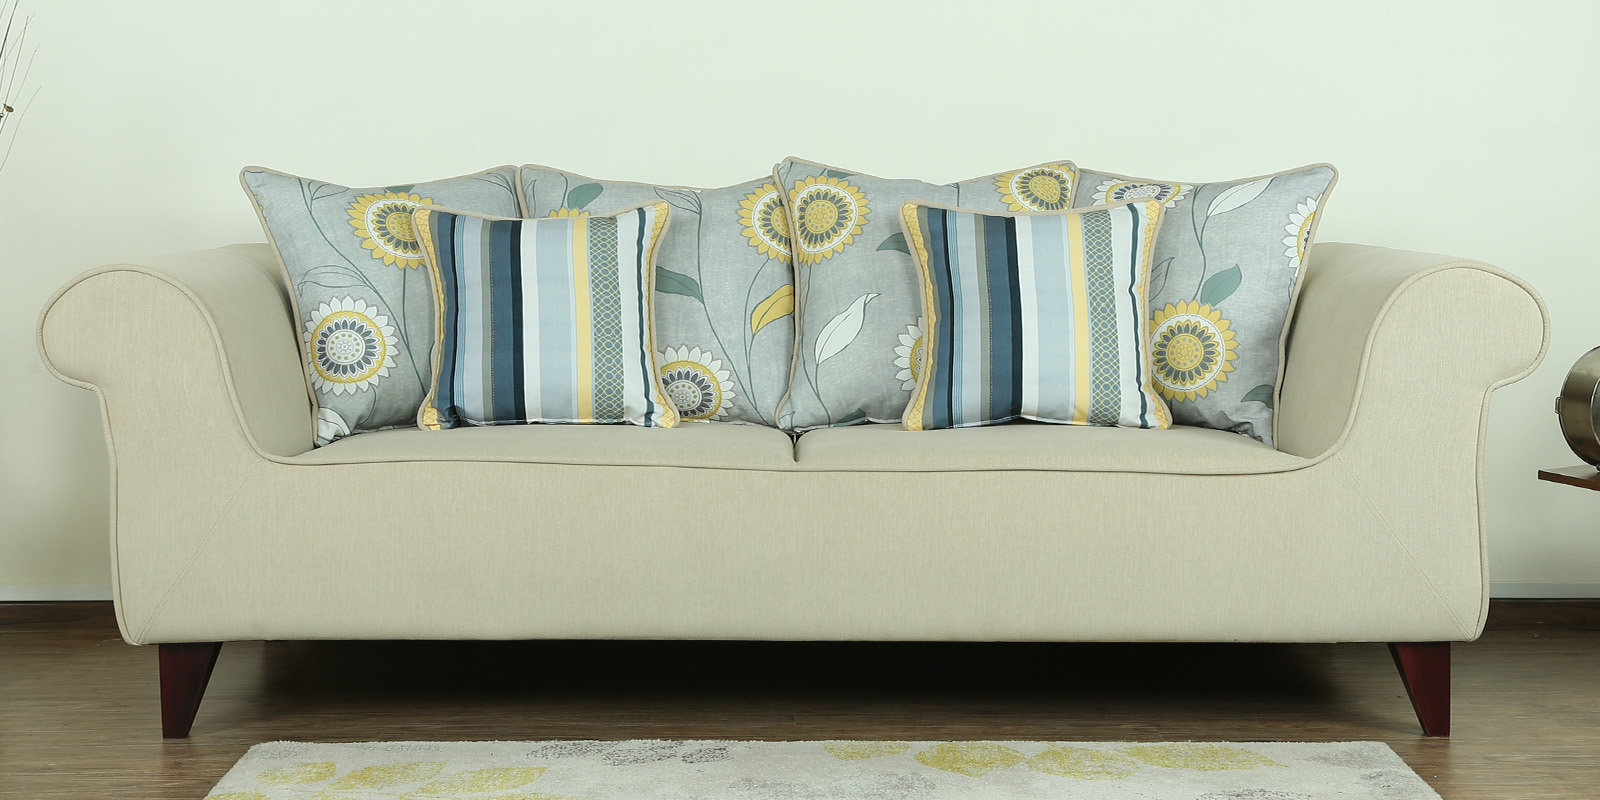Cielo Three Seater Sofa in Beige Colour by CasaCraft: (36, 153, 1521, 757)
